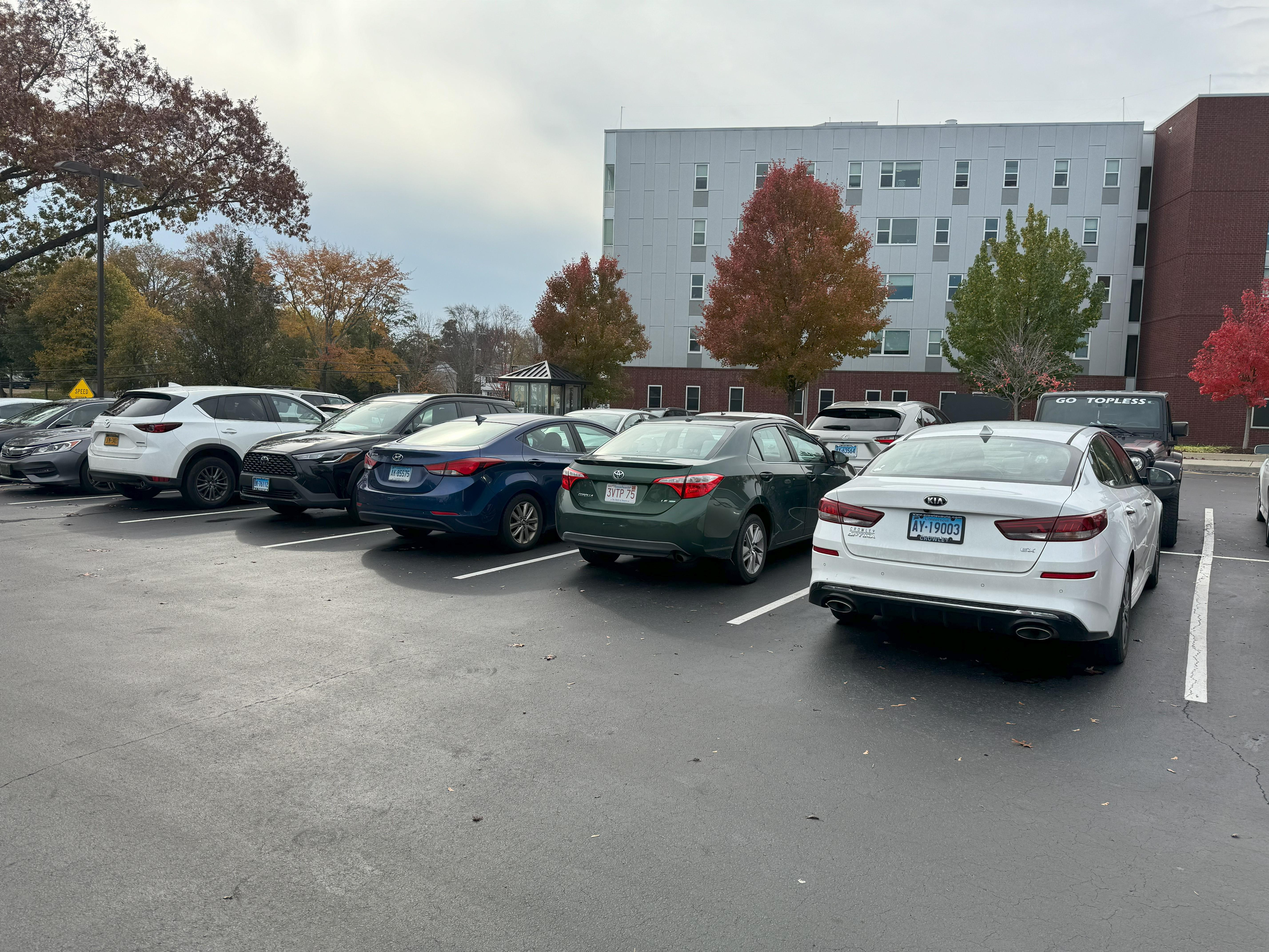occupied: (827, 434, 1182, 684), (569, 407, 809, 606), (360, 398, 564, 563), (85, 365, 246, 554), (240, 398, 358, 535), (14, 398, 79, 513)
